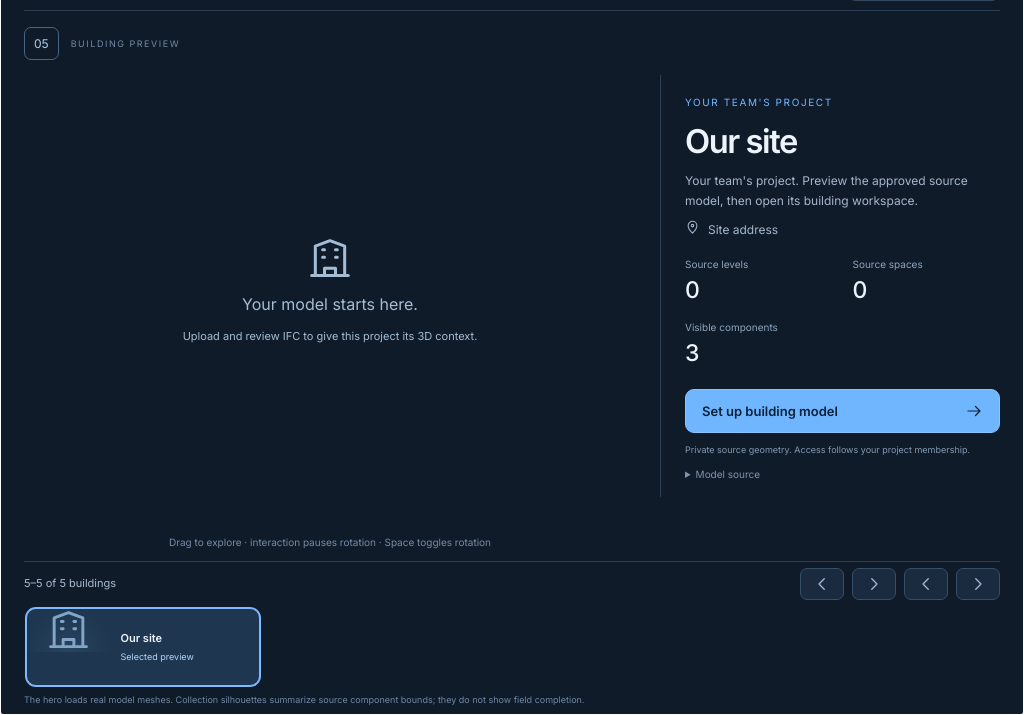
Scenario: loads connected projects through authorized geometry and sends empty projects to setup
The image size is (1024, 715).
Step 1. Click the button "Set up building model" → (770, 411), box [685, 389, 1000, 433]
(page scrolled)
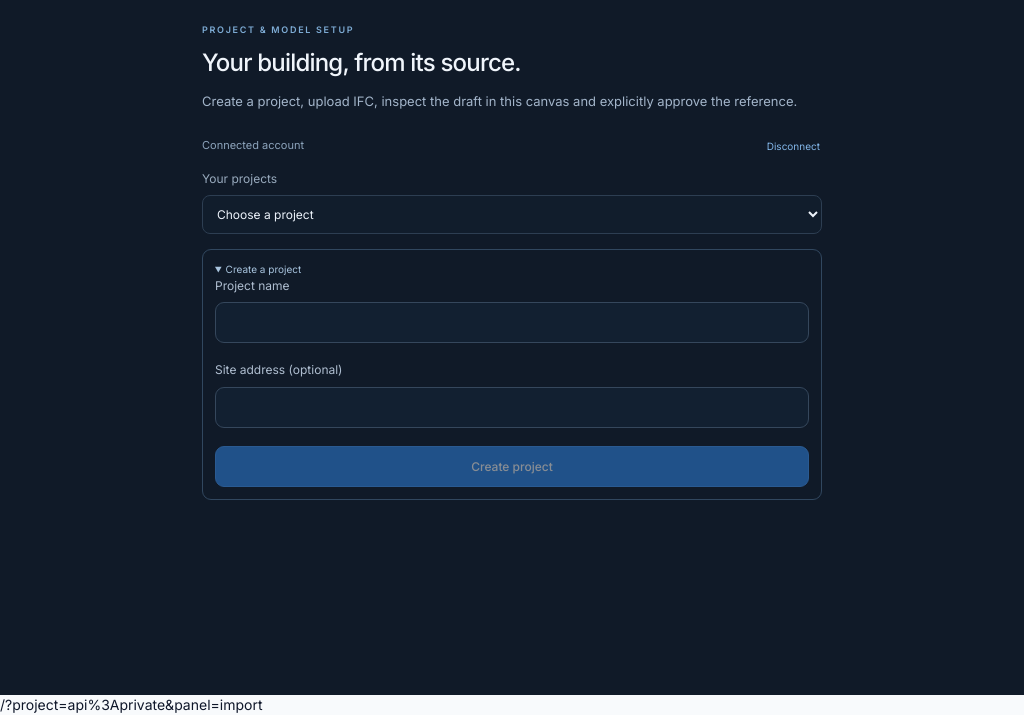
expect the text with test id "url" reads "/?project=api%3Aprivate&panel=import": met, box [0, 696, 262, 713]
